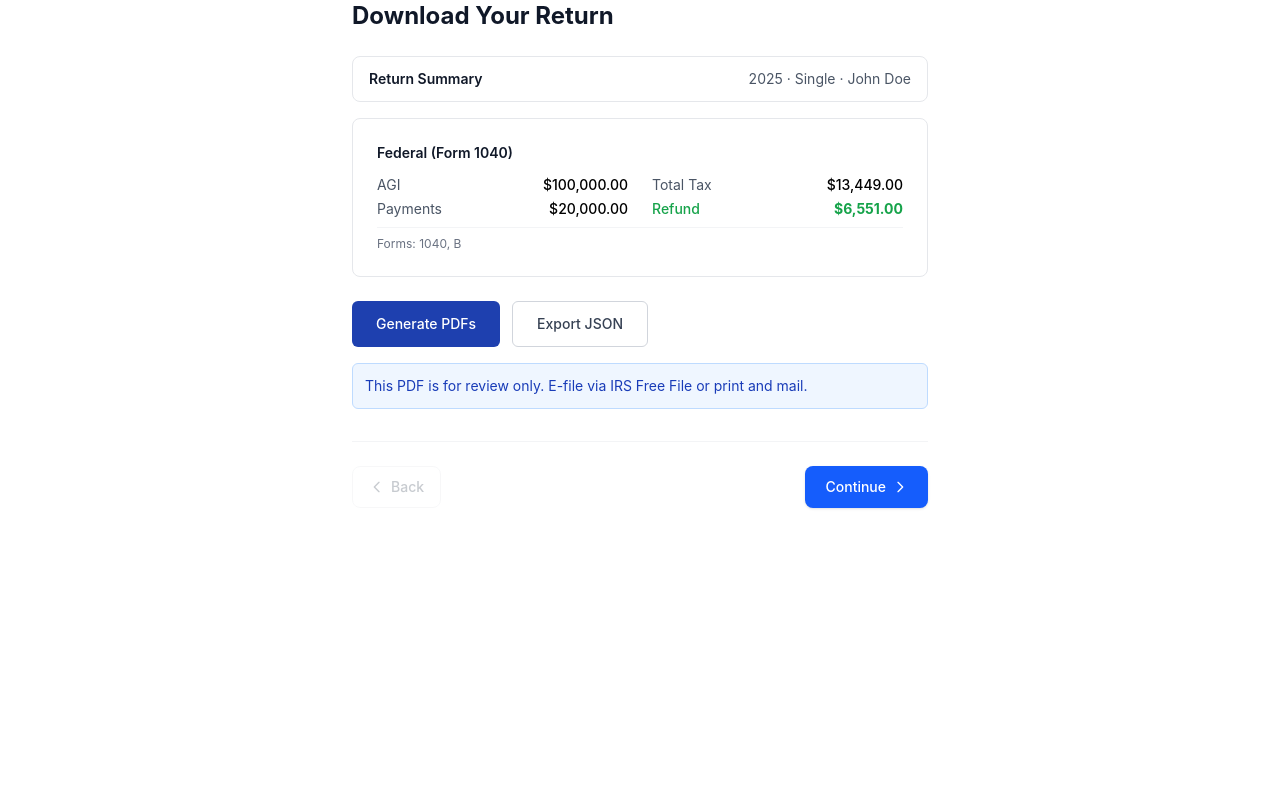
Test: DownloadPage PII export warning › lists multiple sensitive fields when present
Click the button with test id "export-json-btn": (580, 324) [512, 301, 648, 347]
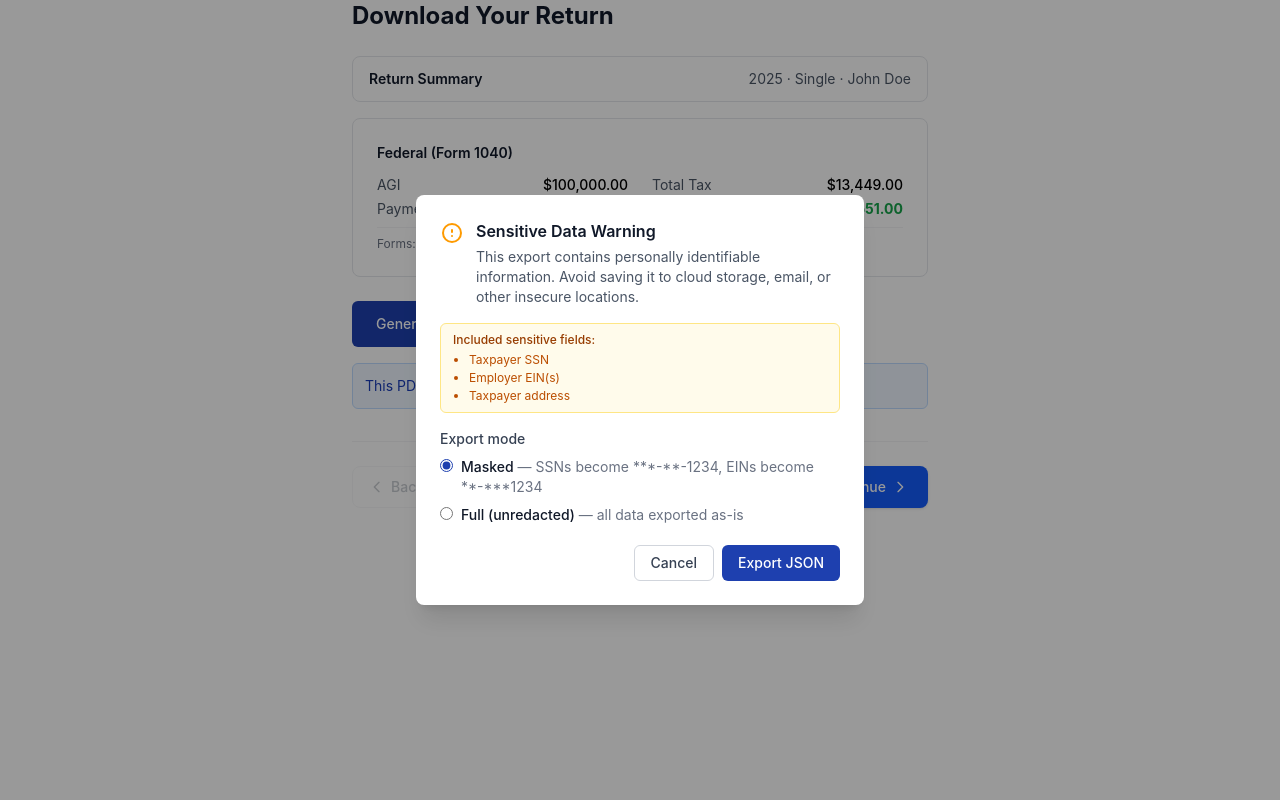
Expected: the list item "Taxpayer SSN" is shown, [469, 352, 549, 367]
Expected: the list item "Employer EIN(s)" is shown, [469, 370, 560, 385]
Expected: the list item "Taxpayer address" is shown, [469, 388, 570, 403]
